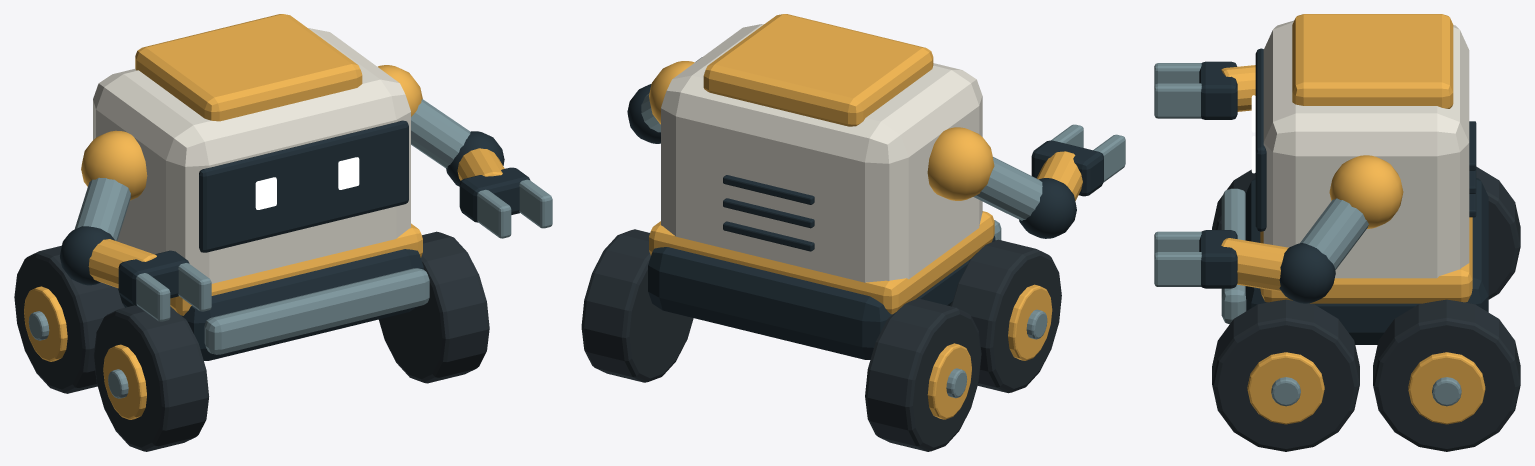
File: robot_builder.glb
The picture shows the model from 3 angles, left to right: view 1: azimuth 30°, elevation 25°; view 2: azimuth 150°, elevation 25°; view 3: azimuth 270°, elevation 25°; orthographic projection.
Parts seen in each view (by area): view 1: shell.001, face.001, tool_crown, wheel.004, wheel.006, front_bumper.001, wheel.005, chassis.001, accent_belt.001, shoulder, upper_arm.001, upper_arm (+15 smaller); view 2: shell.001, tool_crown, chassis.001, wheel.005, wheel.007, wheel.004, accent_belt.001, shoulder, upper_arm, elbow, wheel_hub.005, wheel_hub.004 (+8 smaller); view 3: shell.001, tool_crown, wheel.007, wheel.006, chassis.001, accent_belt.001, wheel_hub.007, wheel_hub.006, shoulder.001, wheel.005, elbow.001, upper_arm.001 (+14 smaller).
Part boxes in pixels (x1=…): shell.001: x1=93, y1=28, x2=410, y2=283; face.001: x1=199, y1=120, x2=408, y2=252; tool_crown: x1=135, y1=14, x2=362, y2=121; wheel.004: x1=93, y1=305, x2=209, y2=451; wheel.006: x1=378, y1=231, x2=489, y2=383; front_bumper.001: x1=204, y1=268, x2=429, y2=354; wheel.005: x1=14, y1=245, x2=124, y2=393; chassis.001: x1=118, y1=249, x2=423, y2=360; accent_belt.001: x1=170, y1=223, x2=422, y2=315; shoulder: x1=81, y1=130, x2=147, y2=200; upper_arm.001: x1=411, y1=99, x2=470, y2=168; upper_arm: x1=75, y1=177, x2=130, y2=241; shell.001: x1=661, y1=24, x2=982, y2=282; tool_crown: x1=703, y1=14, x2=933, y2=126; chassis.001: x1=648, y1=235, x2=995, y2=359; wheel.005: x1=865, y1=298, x2=981, y2=451; wheel.007: x1=581, y1=229, x2=693, y2=382; wheel.004: x1=950, y1=239, x2=1061, y2=393; accent_belt.001: x1=649, y1=211, x2=994, y2=314; shoulder: x1=927, y1=127, x2=994, y2=200; upper_arm: x1=973, y1=157, x2=1042, y2=220; elbow: x1=1019, y1=178, x2=1076, y2=238; wheel_hub.005: x1=927, y1=343, x2=971, y2=419; wheel_hub.004: x1=1008, y1=284, x2=1052, y2=360; shell.001: x1=1263, y1=20, x2=1469, y2=278; tool_crown: x1=1292, y1=14, x2=1453, y2=108; wheel.007: x1=1373, y1=299, x2=1520, y2=451; wheel.006: x1=1212, y1=299, x2=1359, y2=451; chassis.001: x1=1245, y1=178, x2=1488, y2=344; accent_belt.001: x1=1260, y1=217, x2=1472, y2=303; wheel_hub.007: x1=1408, y1=352, x2=1485, y2=424; wheel_hub.006: x1=1247, y1=352, x2=1324, y2=424; shoulder.001: x1=1329, y1=155, x2=1403, y2=228; wheel.005: x1=1476, y1=166, x2=1520, y2=299; elbow.001: x1=1279, y1=243, x2=1335, y2=303; upper_arm.001: x1=1300, y1=198, x2=1368, y2=269.
Size of the model in its own units: 1.59 by 1.11 by 1.14.
